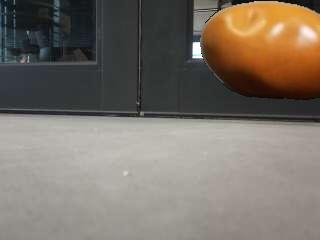Potato: (199, 2, 320, 104)
